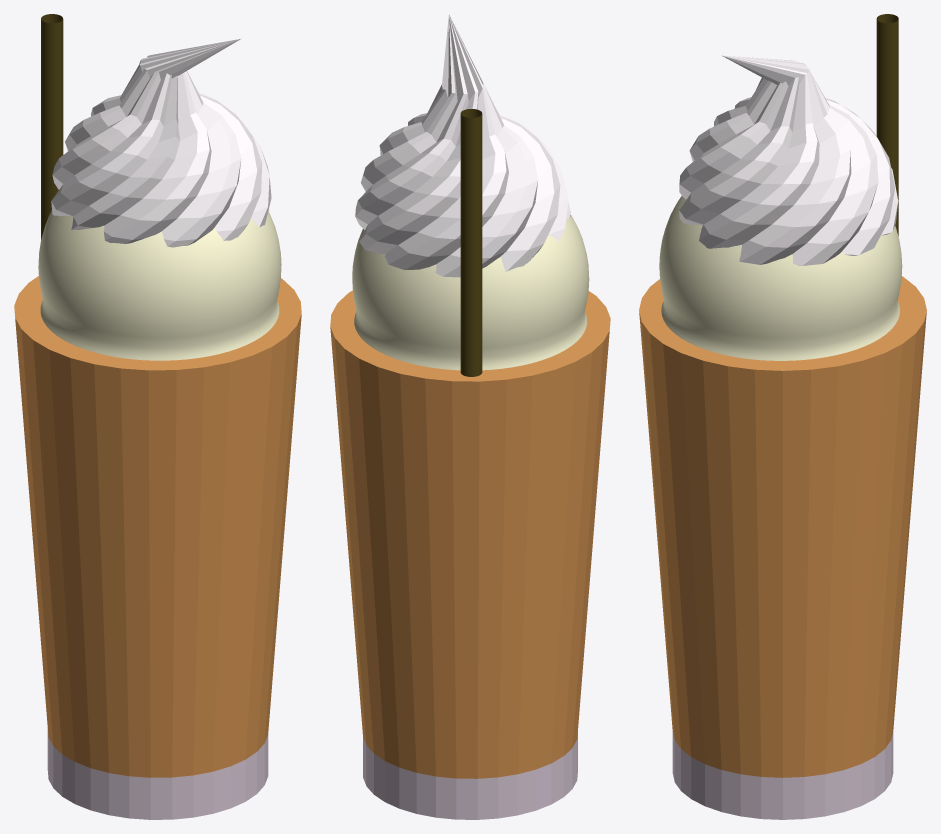
The model's file is capawithvanandwhipandcone.fbx.
3 renders of one model, left to right at view 1: azimuth 30°, elevation 25°; view 2: azimuth 150°, elevation 25°; view 3: azimuth 270°, elevation 25°, orthographic. The views are drawn at different scales.
Parts seen in each view (by area): view 1: Circle, Sphere, Sphere.001, Cylinder; view 2: Circle, Sphere, Sphere.001, Cylinder; view 3: Circle, Sphere, Sphere.001, Cylinder.
Part boxes in pixels (<box>): Circle: <box>14,276,301,819</box>; Sphere: <box>51,38,271,247</box>; Sphere.001: <box>38,210,281,360</box>; Cylinder: <box>41,14,63,239</box>; Circle: <box>330,290,610,819</box>; Sphere: <box>355,14,570,277</box>; Sphere.001: <box>352,214,589,370</box>; Cylinder: <box>460,109,482,376</box>; Circle: <box>639,276,926,819</box>; Sphere: <box>679,55,898,265</box>; Sphere.001: <box>659,196,902,360</box>; Cylinder: <box>876,14,898,236</box>.
Size of the model in its own units: 261 by 744 by 261.
